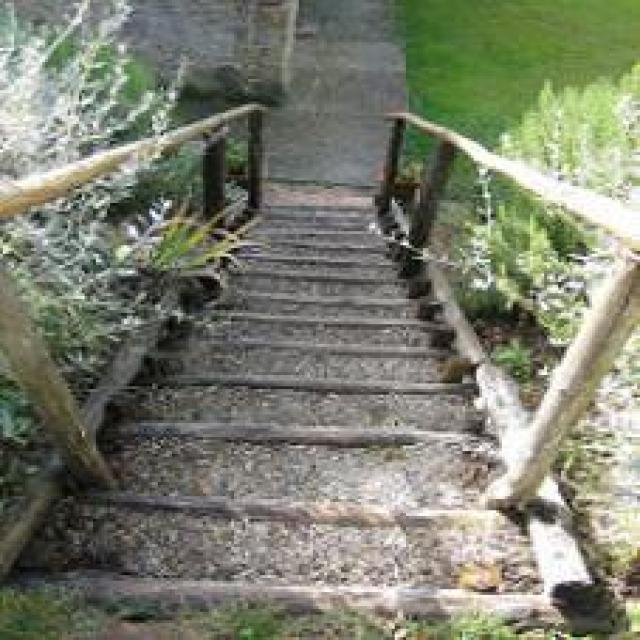downstair: (77, 418, 497, 610)
